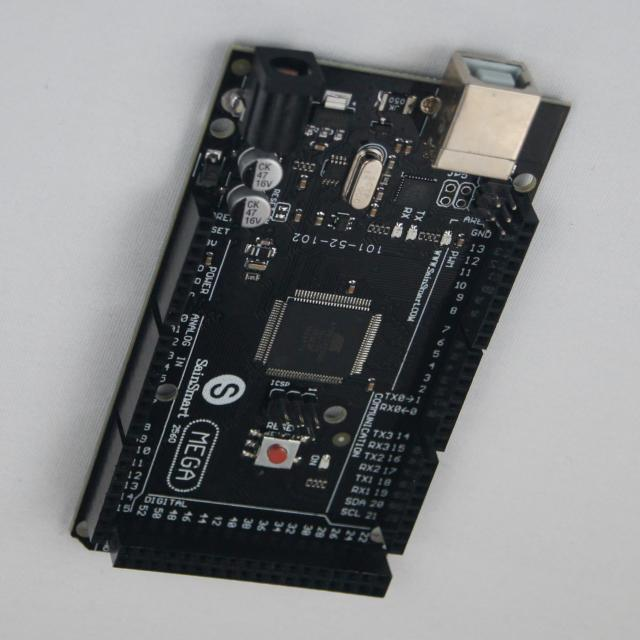Arduino Mega 2560 -Black-: (73, 46, 569, 597)
